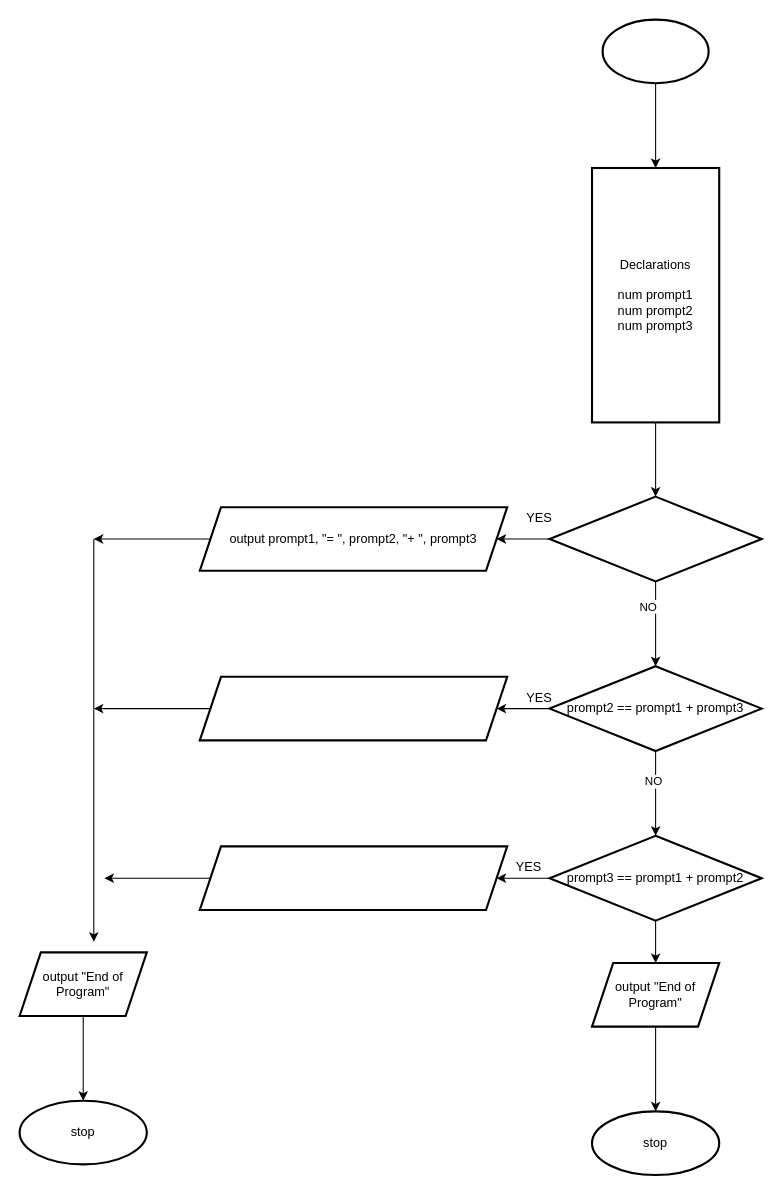
This 780x1194 diagram has some shape labels left out. The centre of each missing label's shape, as x and y in pixels:
output prompt2, "= ", prompt1, "+ ", prompt3: point (353, 708)
output prompt3, "= ", prompt1, "+ ", prompt2: point (353, 878)
prompt1 == prompt2 + prompt3: point (655, 538)
start: point (655, 51)
